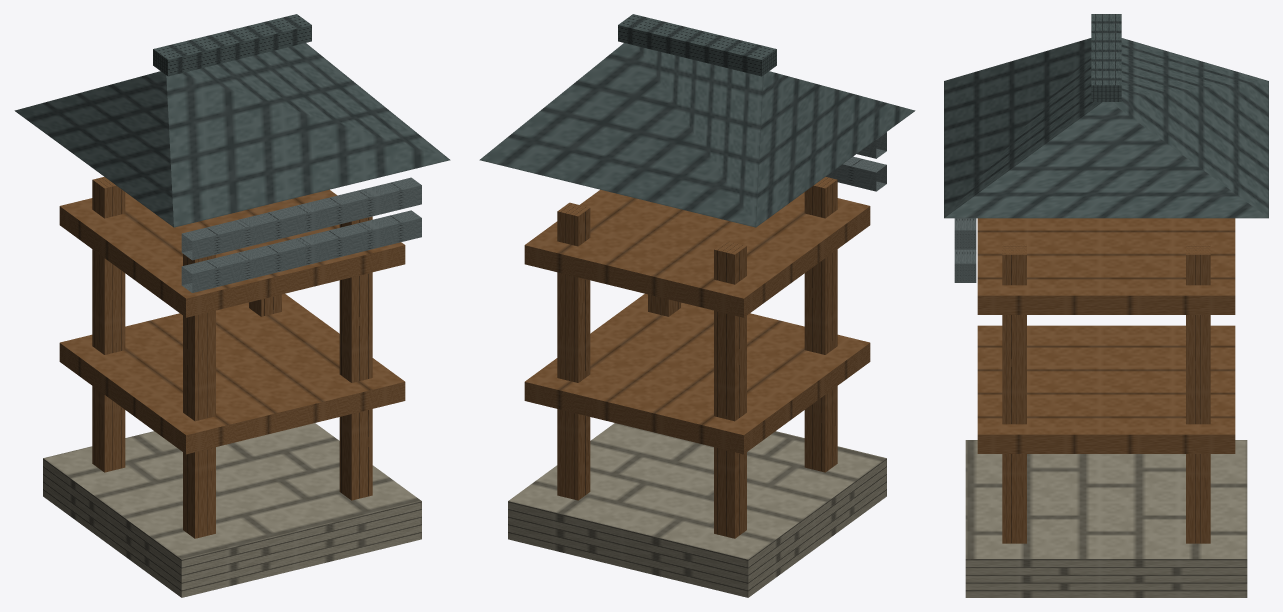
Rendered from military-CROSSBOW_TOWER-1-lod0.glb.
3 views of the same model, side by side, from view 1: azimuth 30°, elevation 25°; view 2: azimuth 150°, elevation 25°; view 3: azimuth 270°, elevation 25° (orthographic).
Size of the model in its own units: 0.53 by 0.88 by 0.53.
1 material, 1 textured.
